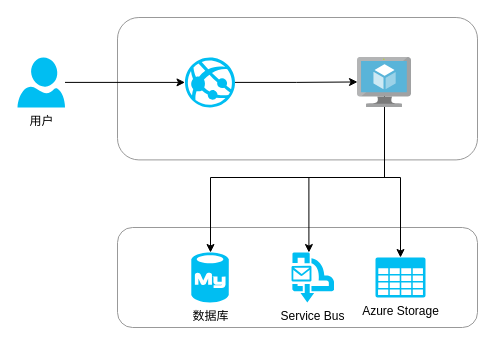
The diagram is 495 pixels wide and 345 high, and some of its shapes have lost their labels. The shapes that lost their labels are listed below. From the top down, each one's centre as x and y in pixels, then its label:
At (209,82): "前端服务".
At (384,82): "后端服务".
